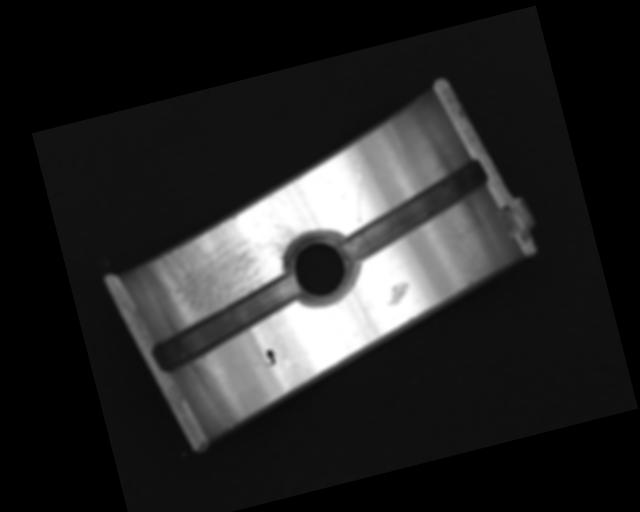blot: (261, 347, 278, 368)
bruise: (383, 279, 413, 306)
gap: (331, 158, 499, 265), (141, 270, 310, 375)
hole: (278, 226, 360, 313)
nick: (345, 164, 373, 223)
scratch: (139, 190, 319, 337)
